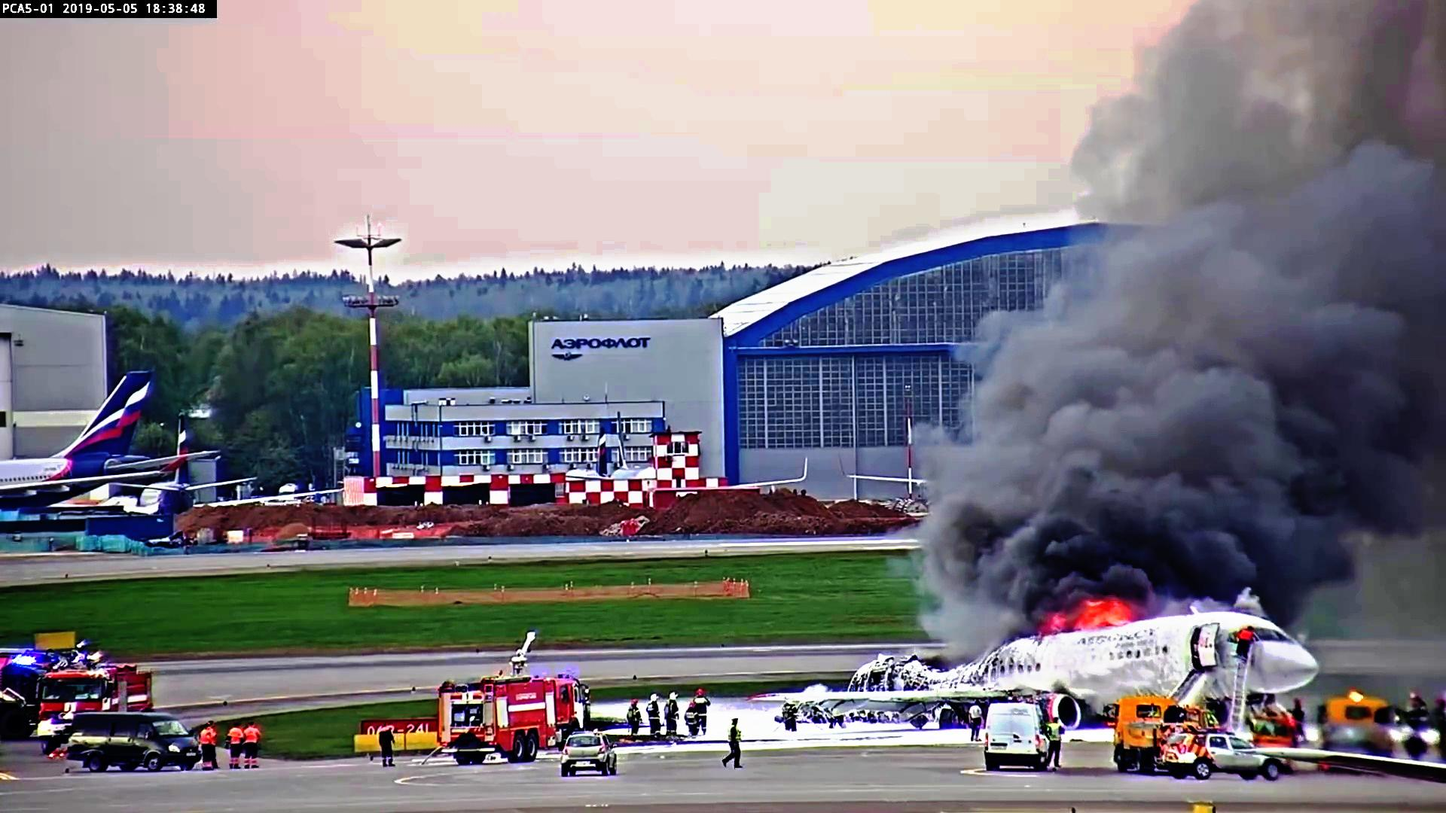fire: (1070, 595, 1126, 627)
smoke: (949, 305, 1446, 597), (1099, 162, 1443, 581)
